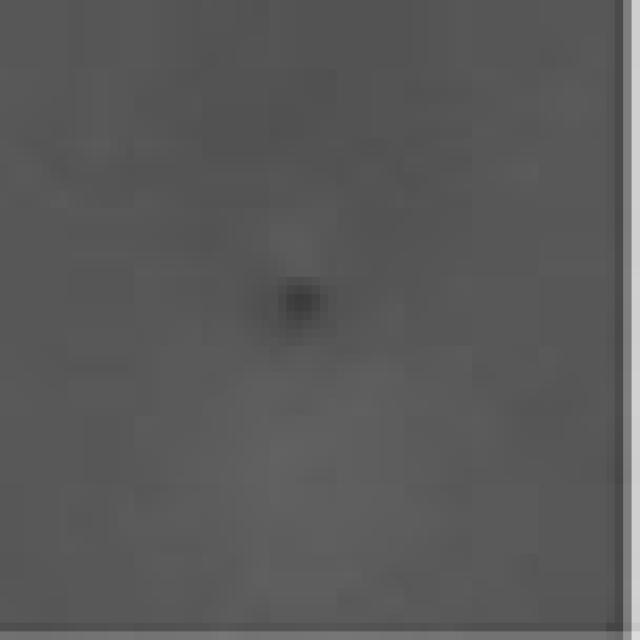Defect2: (251, 248, 360, 374)
